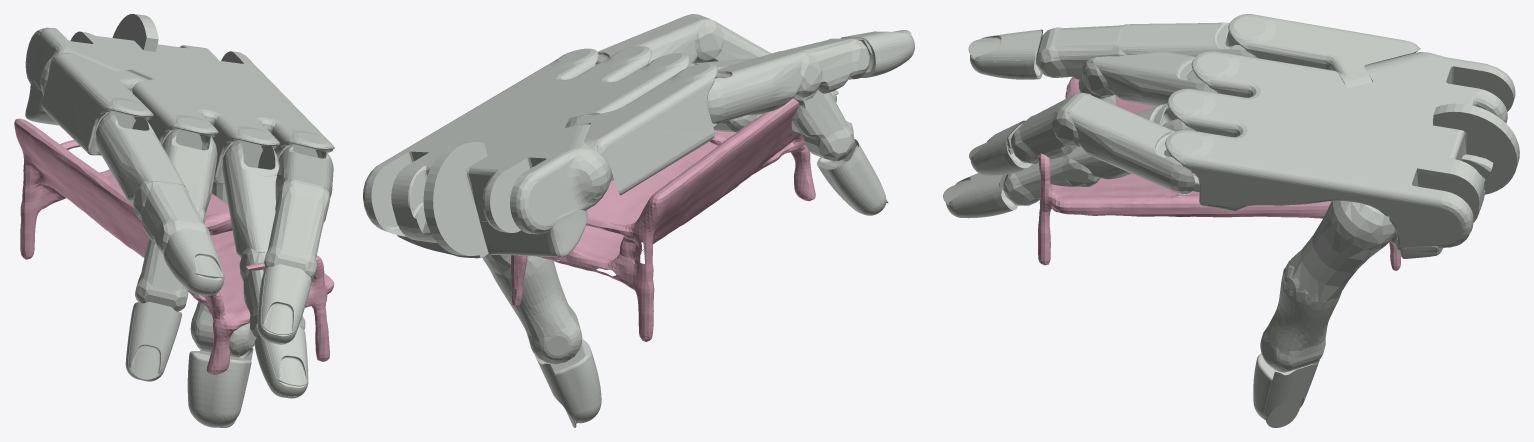
The picture shows the model from 3 angles, left to right: view 1: azimuth 30°, elevation 25°; view 2: azimuth 150°, elevation 25°; view 3: azimuth 270°, elevation 25°; orthographic projection. The views are drawn at different scales.
Visible parts, largest first — view 1: hand_isaac_q, world; view 2: hand_isaac_q, world; view 3: hand_isaac_q, world.
Boxes of the visible parts, x1=… form: hand_isaac_q: x1=25, y1=14, x2=334, y2=427; world: x1=14, y1=118, x2=334, y2=374; hand_isaac_q: x1=363, y1=14, x2=914, y2=427; world: x1=510, y1=98, x2=815, y2=341; hand_isaac_q: x1=943, y1=14, x2=1519, y2=427; world: x1=1038, y1=77, x2=1400, y2=270.
Bounding box in the file's own units: 0.1251 × 0.1399 × 0.2057.
